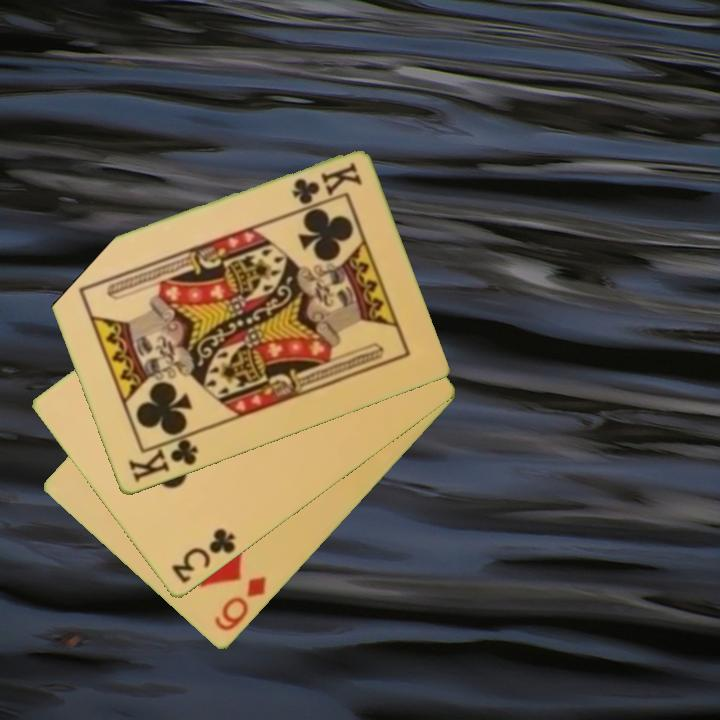3c: (168, 525, 239, 587)
6d: (210, 573, 270, 635)
Kc: (124, 430, 201, 487), (287, 159, 364, 208)
